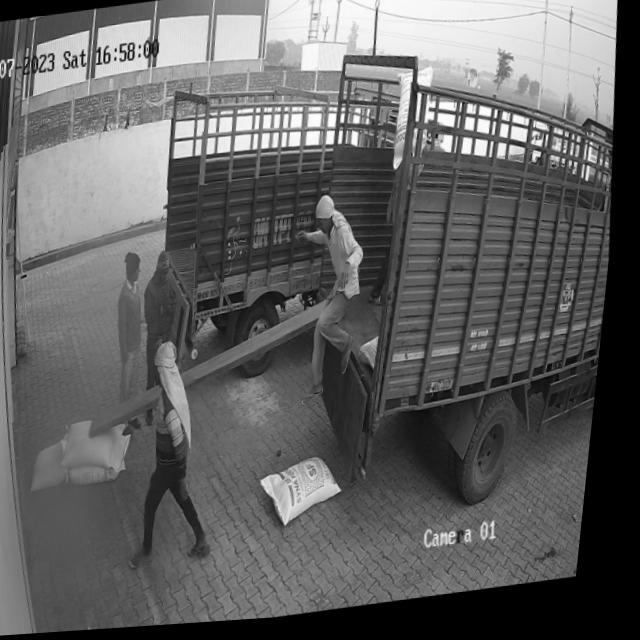sack: (267, 458, 356, 533), (67, 417, 139, 478), (74, 436, 144, 490), (37, 436, 84, 492)
